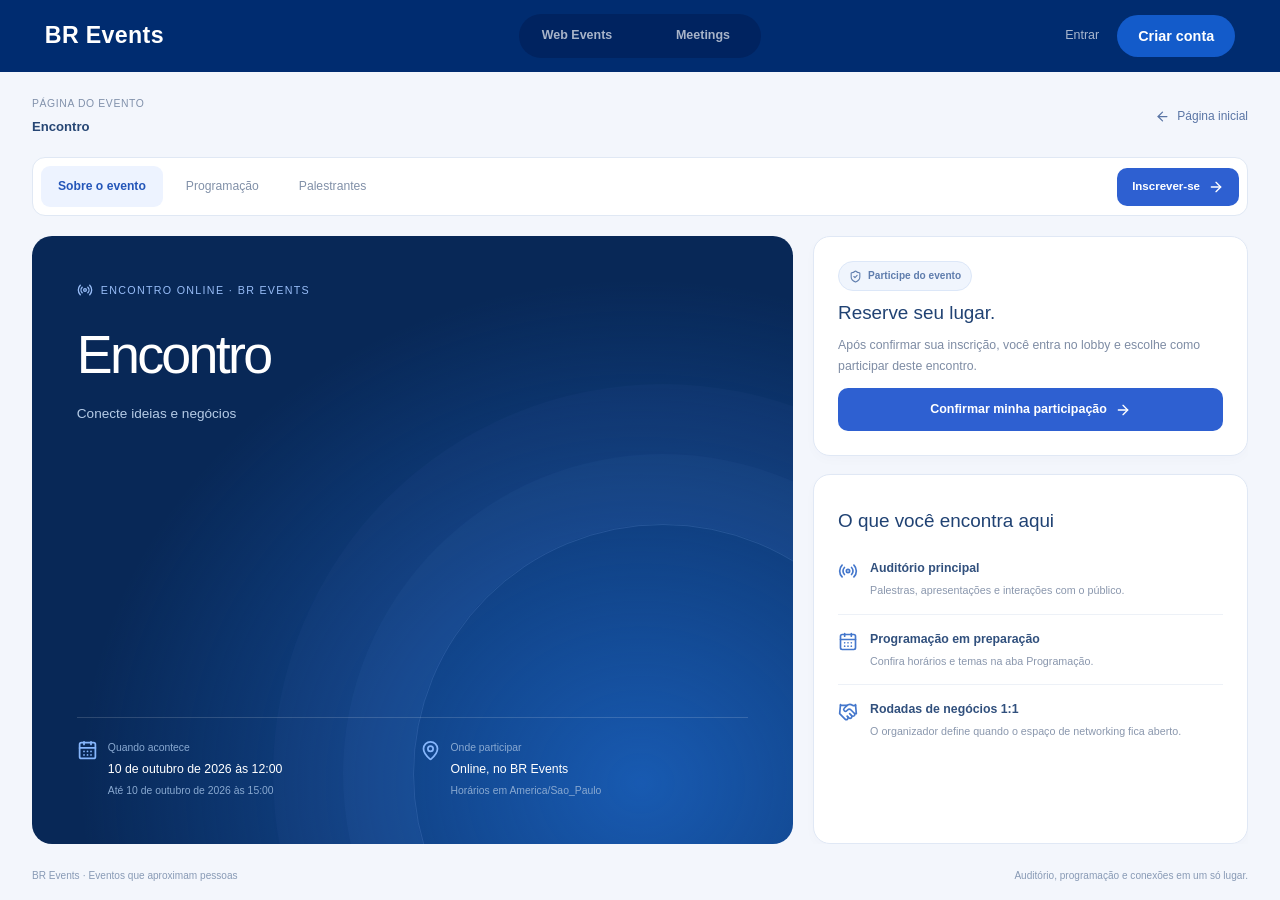
Test case: página do evento e lobby › troca entre programação e palestrantes sem navegar para outra página
Click the tab "Programação". click: (222, 187)
box: [169,166,276,207]
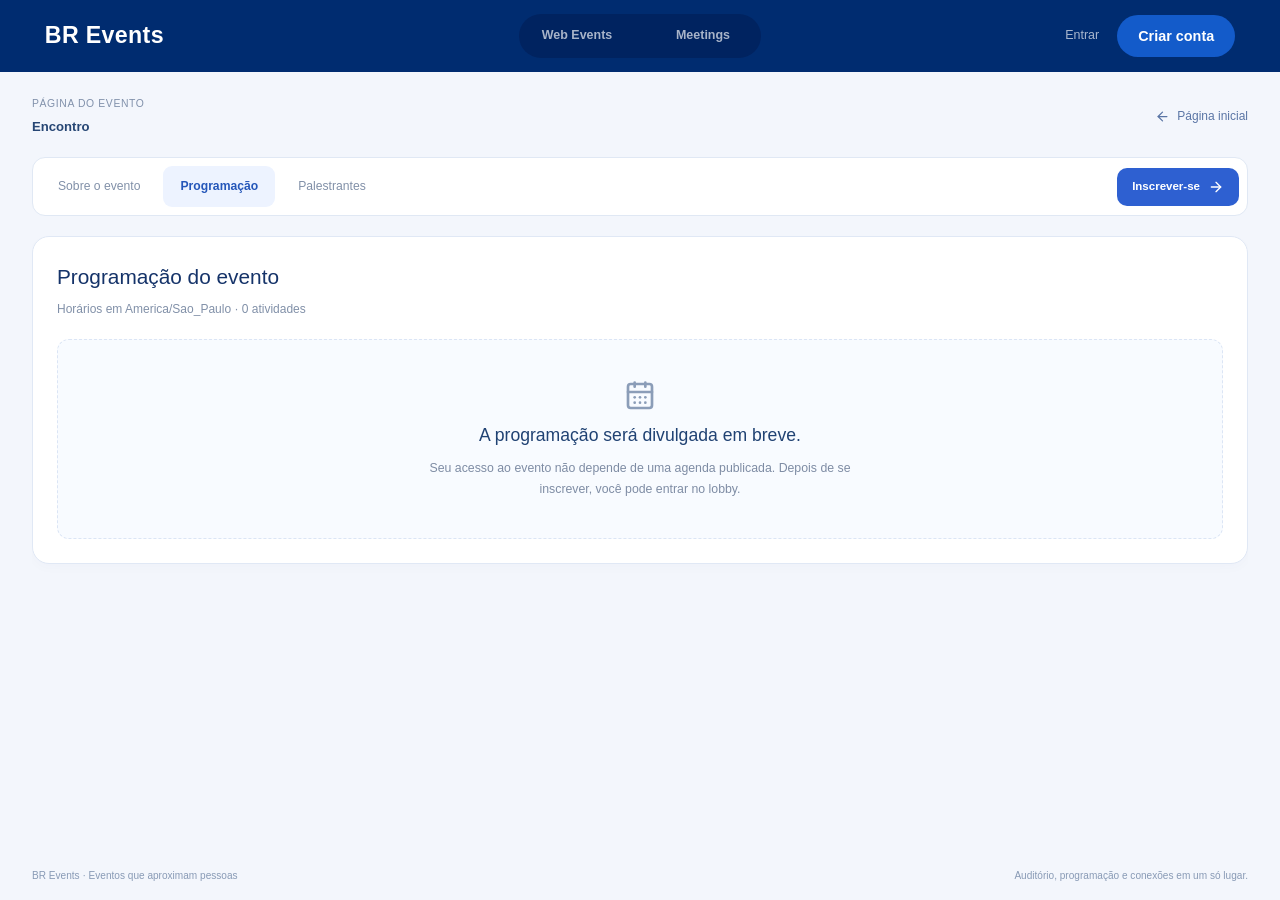
Expected: the heading "A programação será divulgada em breve." is shown, [479,424,801,446]
Click the tab "Palestrantes". click: (332, 187)
box: [281,166,383,207]
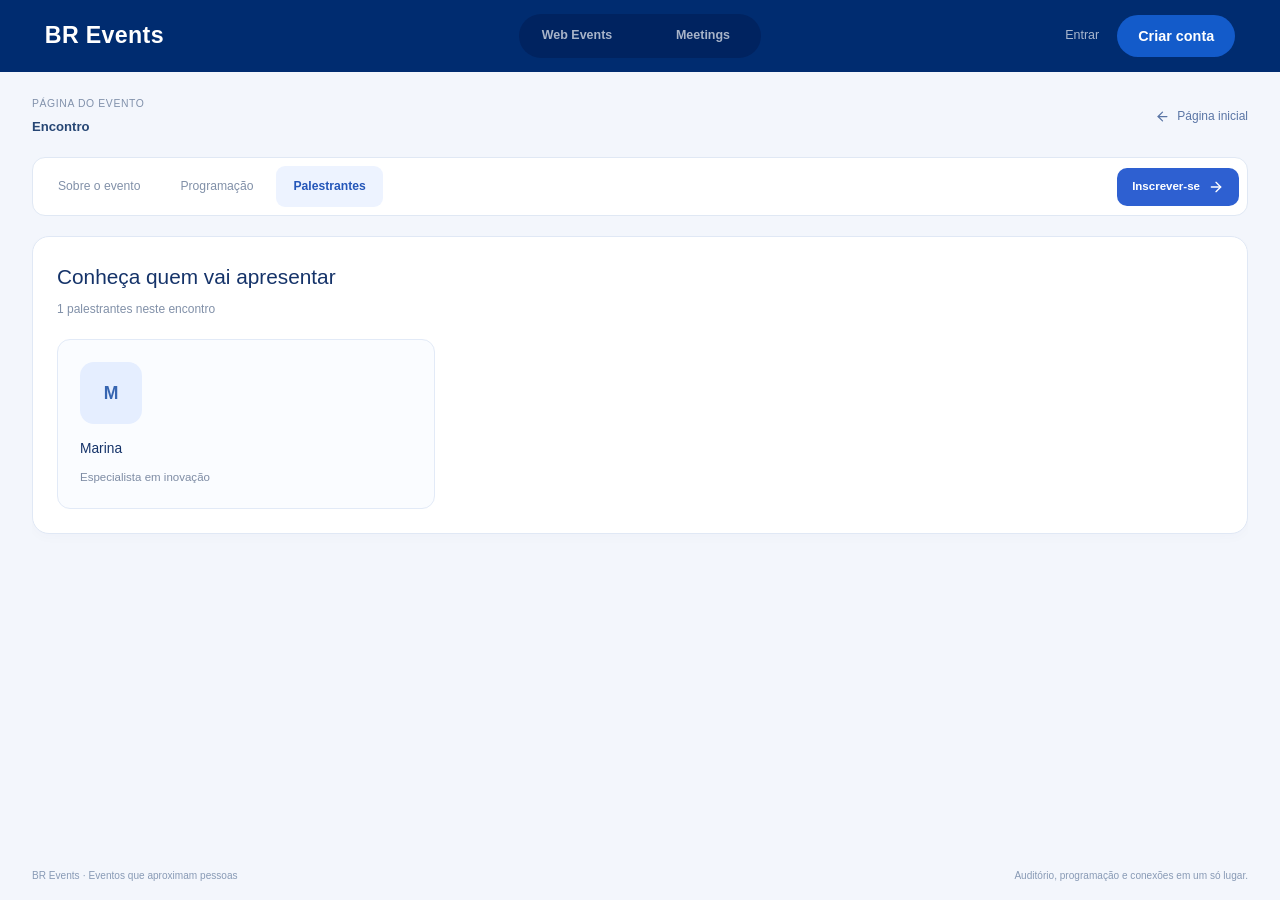
Expected: the heading "Marina" is shown, [80,438,122,460]
